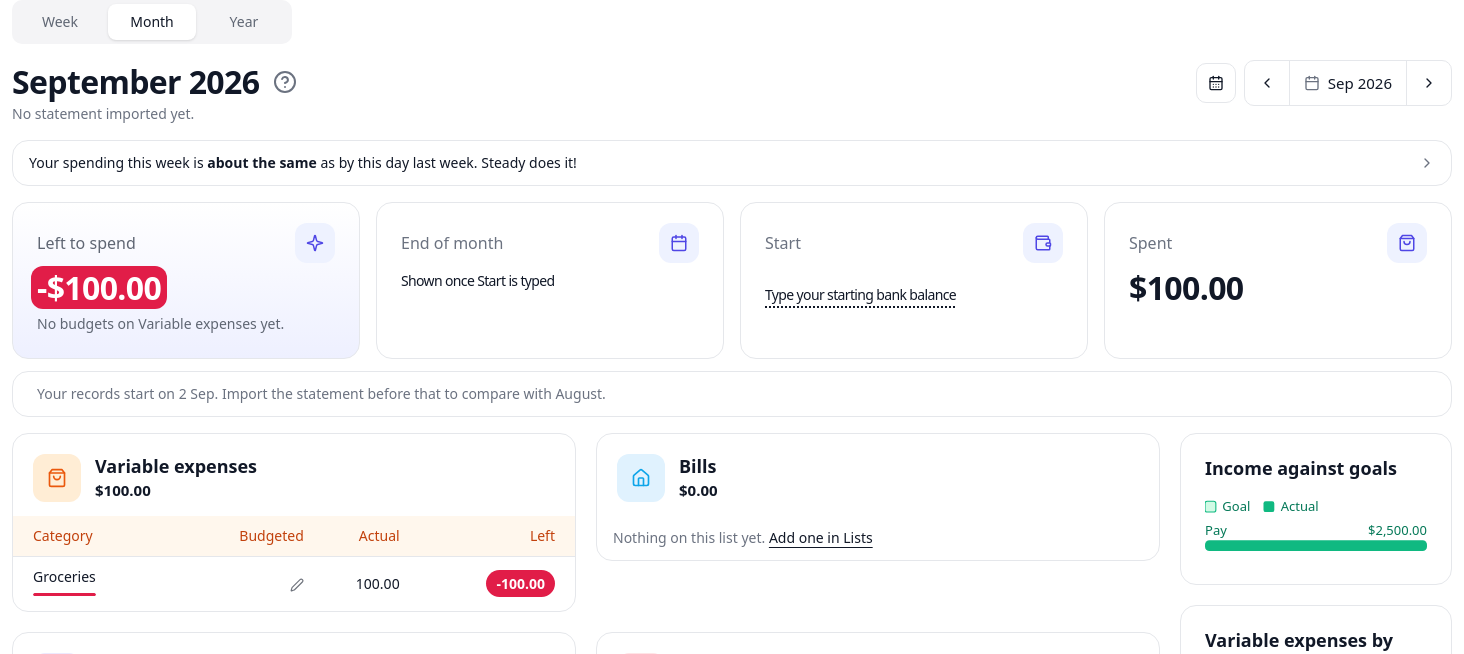
Typing the starting balance on the Month › says why a save was refused, in its editor, and keeps what was typed
This screenshot has width=1464, height=654.
Click the button with aria-label "Starting balance for September, ": (860, 293) [765,281,956,304]
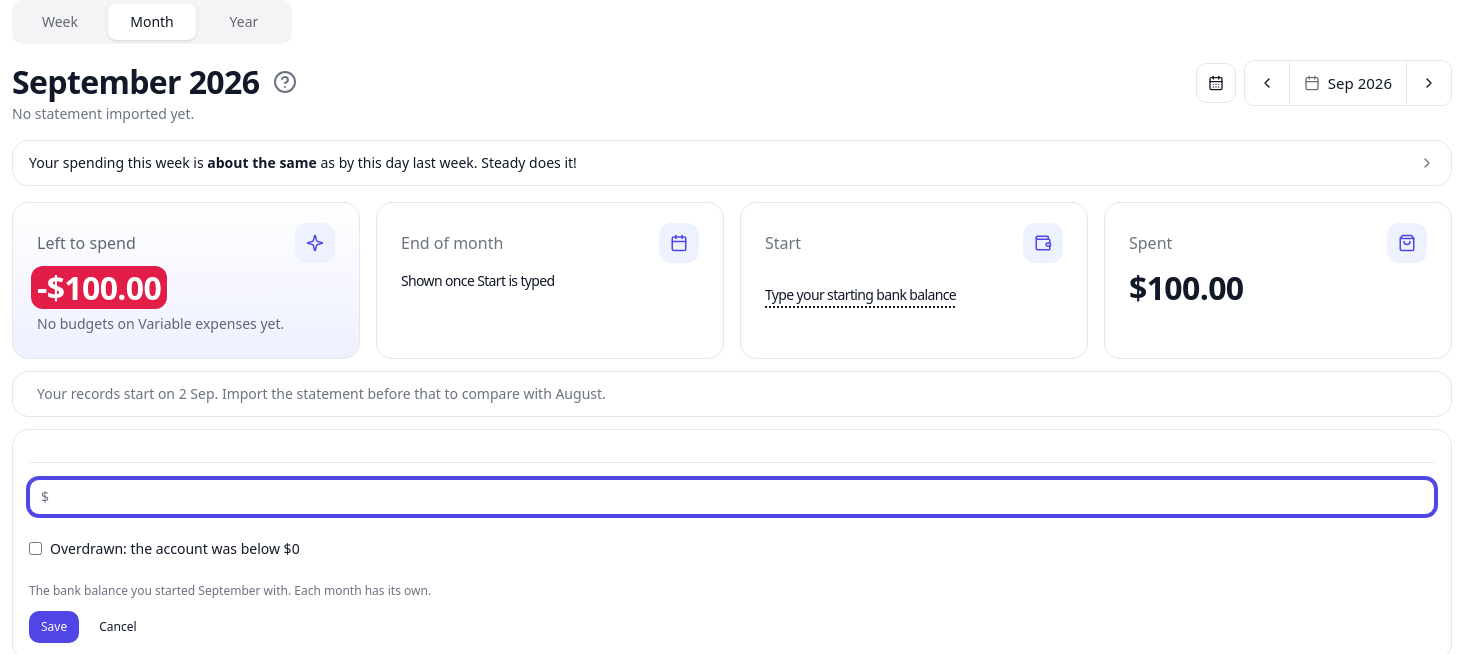
In the field named "Starting bank balance for September": (732, 497) [29,479,1435,515], type "100"
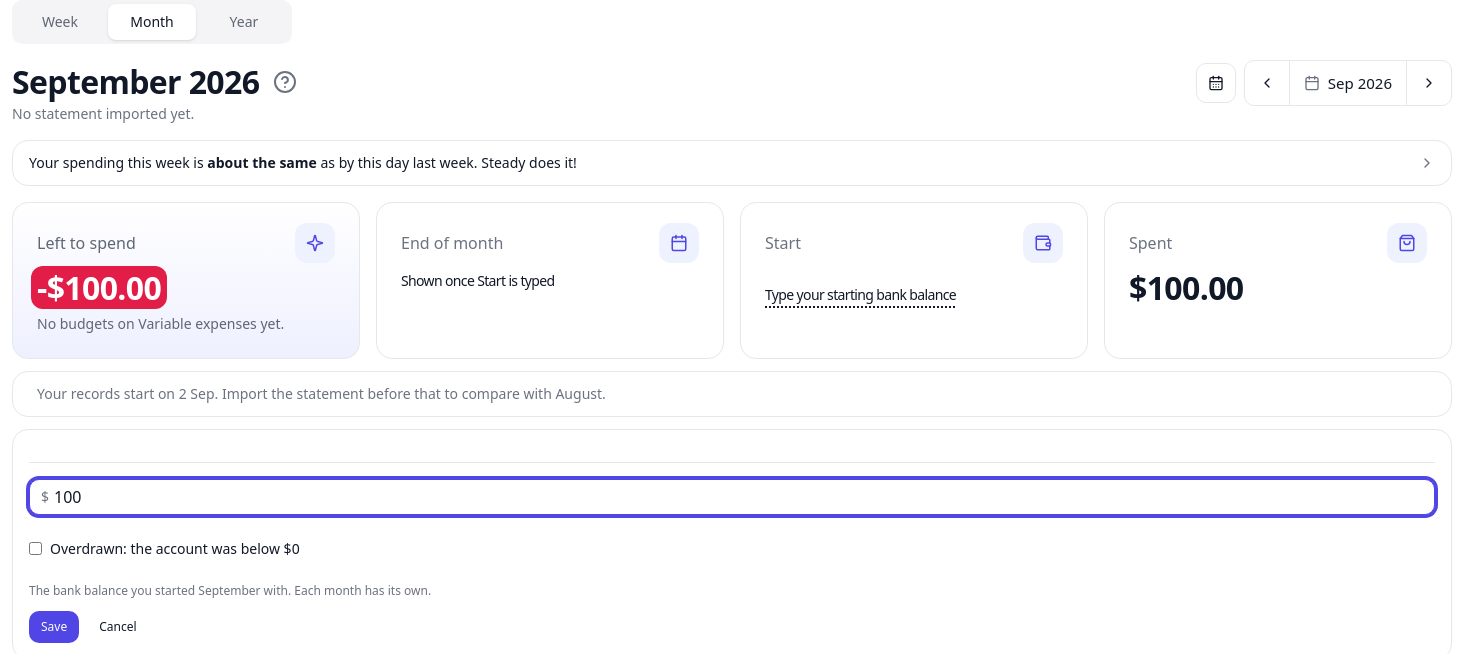
Click the button "Save": (54, 627) [29,611,79,643]
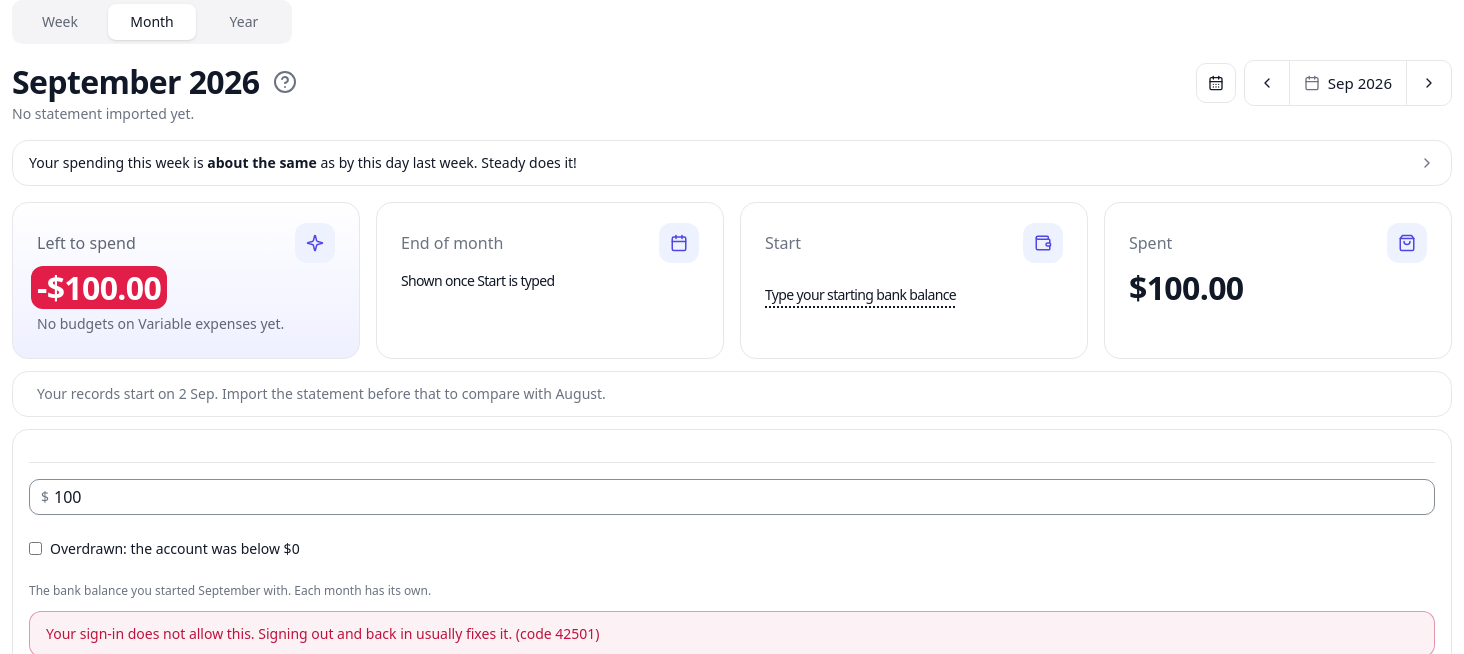
expect the message shows "Your sign-in does not allow this. Signing out and back in usually fixes it. (code 42501)": met, box [46,624,600,643]
